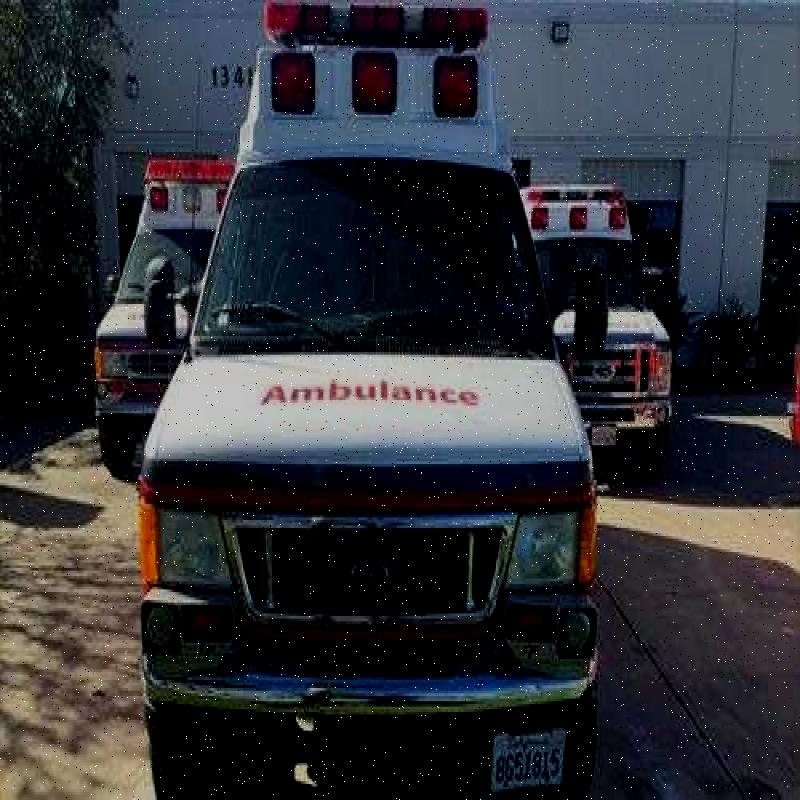AmbulanceSiren: (257, 0, 497, 66)
